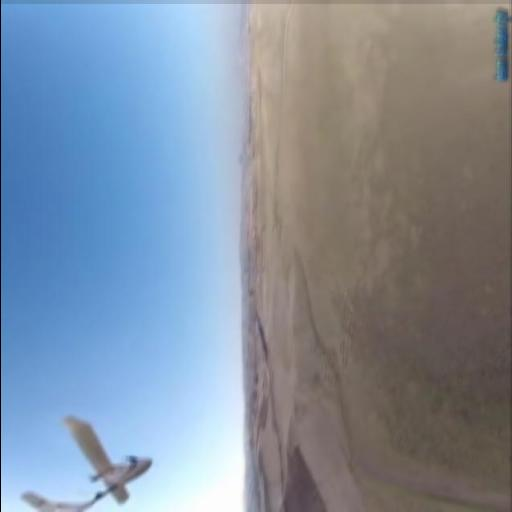uav: (20, 413, 154, 512)
